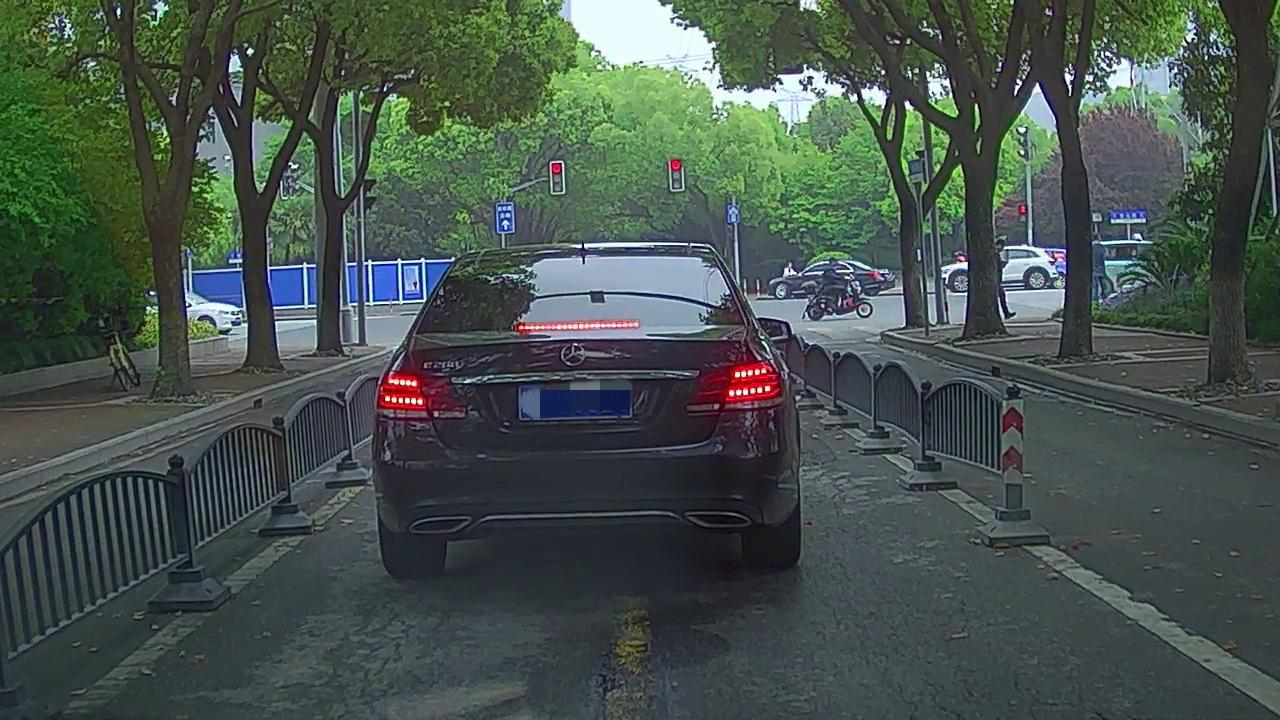traffic_light: (669, 155, 685, 192), (550, 159, 564, 194)
